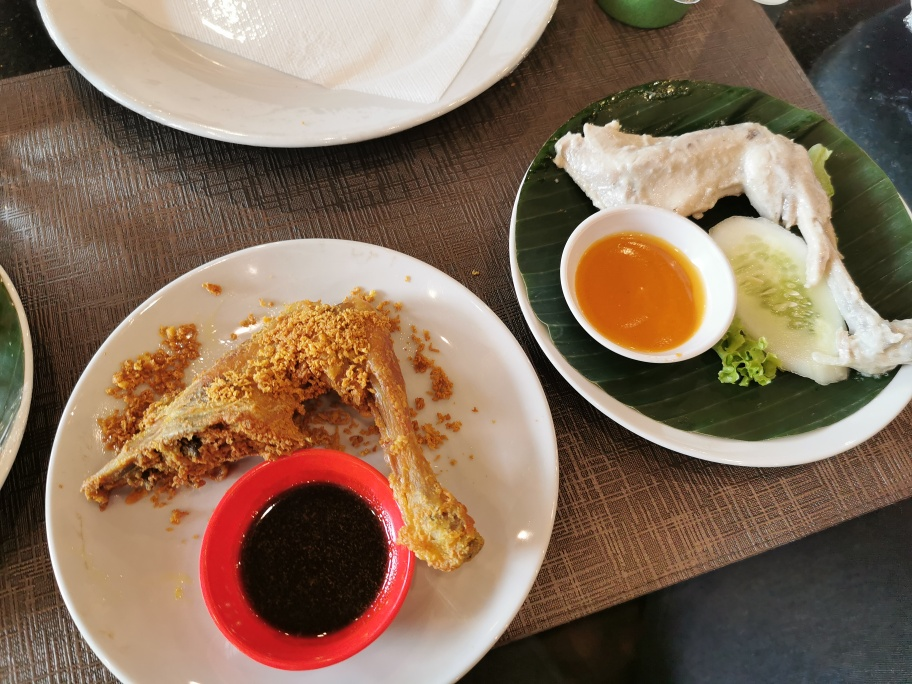ayam goreng: (80, 298, 483, 573)
ayam pop: (553, 117, 912, 371)
extra: (533, 203, 850, 383)
kecap: (187, 440, 413, 659)
